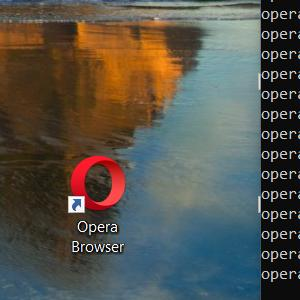opera: (68, 155, 126, 214)
